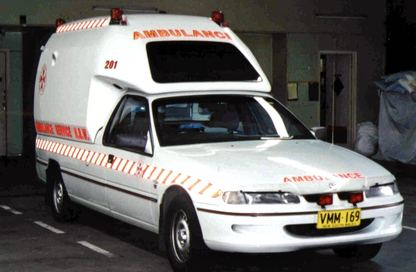ambulance: (34, 7, 403, 270)
